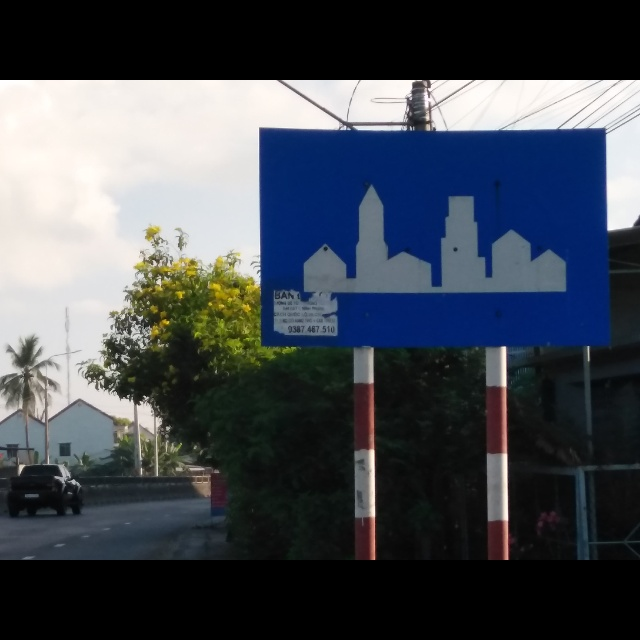Khu đông dân cư: (257, 126, 611, 348)
